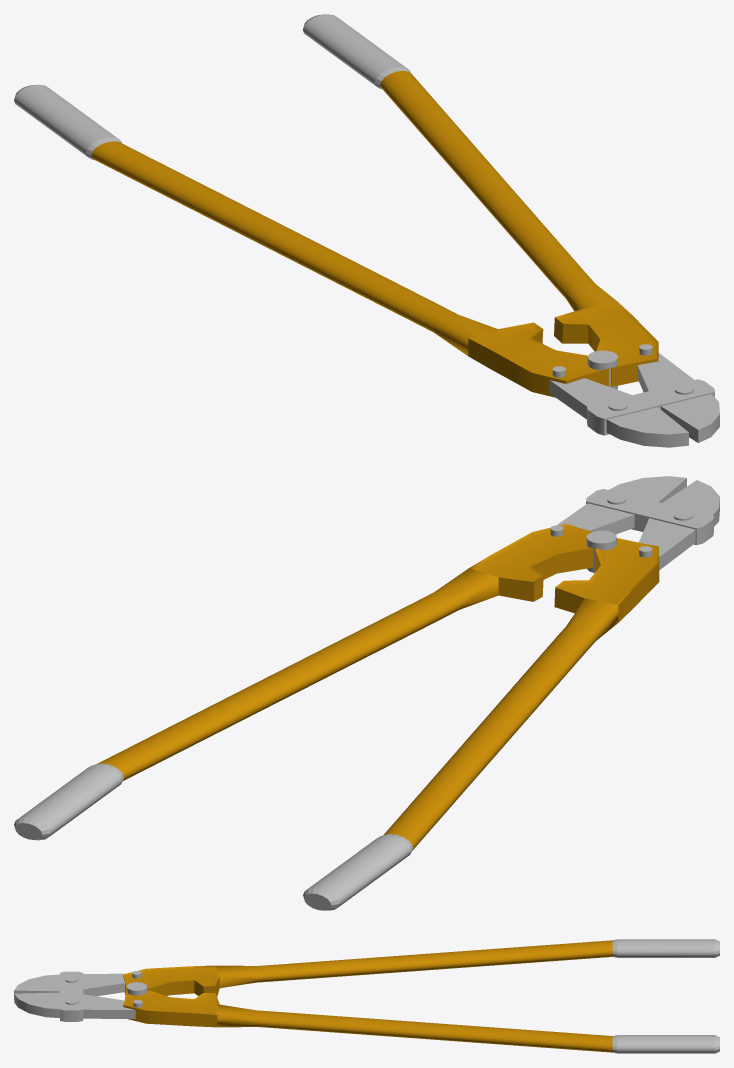
The model's file is bolt-cutters.fbx.
3 renders of one model, top to bottom at view 1: azimuth 30°, elevation 25°; view 2: azimuth 150°, elevation 25°; view 3: azimuth 270°, elevation 25°, orthographic. The views are drawn at different scales.
Visible parts, largest first — view 1: boltcutters; view 2: boltcutters; view 3: boltcutters.
Boxes of the visible parts, <box> form: boltcutters: <box>14,14,719,447</box>; boltcutters: <box>14,476,719,910</box>; boltcutters: <box>14,939,719,1053</box>.
Bounding box in the file's own units: 7.9 × 0.7077 × 21.87.
